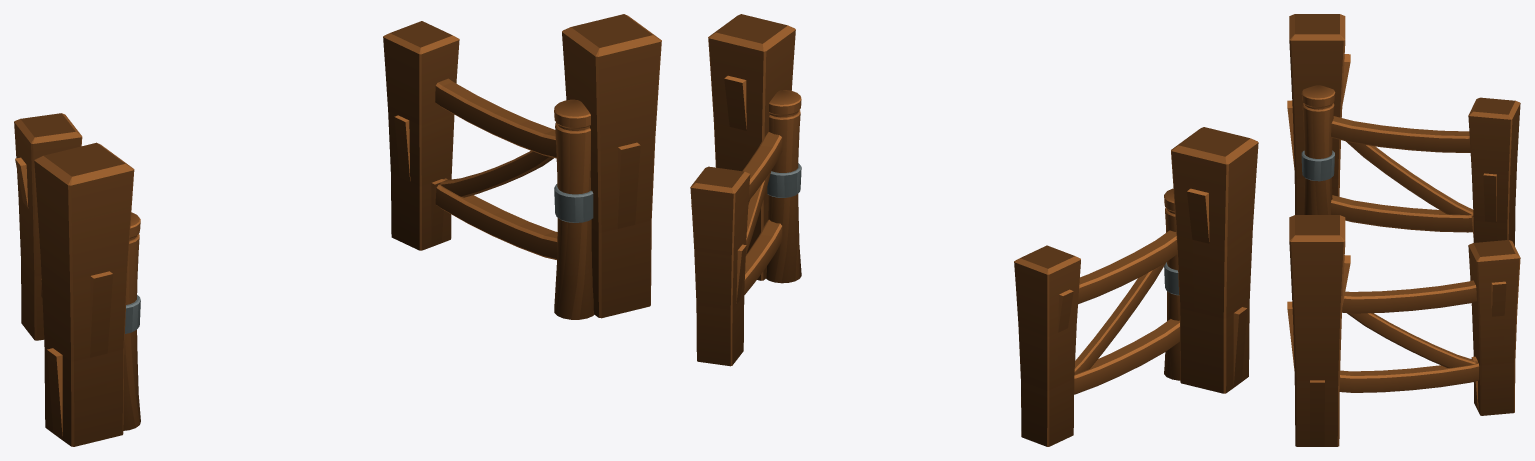
The model's file is Door-3-2.fbx.
3 views of the same model, side by side, from view 1: azimuth 30°, elevation 25°; view 2: azimuth 150°, elevation 25°; view 3: azimuth 270°, elevation 25° (orthographic). The views are drawn at different scales.
Parts seen in each view (by area): view 1: Door-3-2; view 2: Door-3-2; view 3: Door-3-2.
Boxes of the visible parts, x1,y1,x2,y2 form: Door-3-2: (14,14,661,446); Door-3-2: (690,14,1258,446); Door-3-2: (1287,14,1520,446).
Size of the model in its own units: 452 by 198 by 197.
